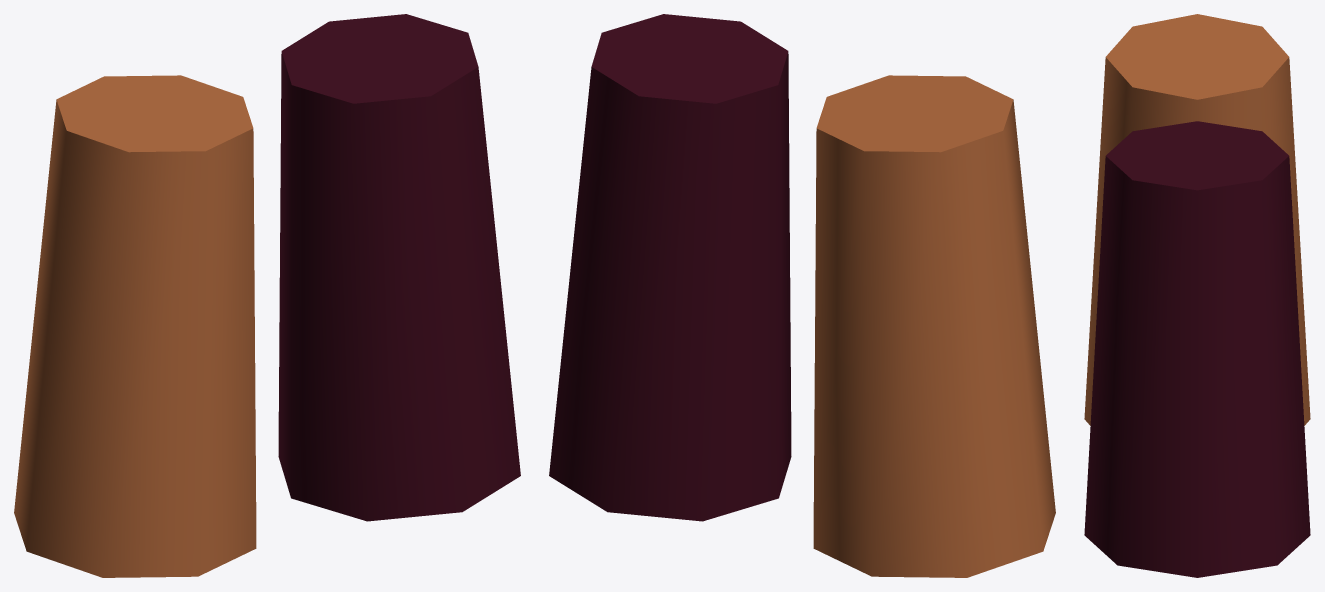
File: legs.glb
3 views of the same model, side by side, from view 1: azimuth 30°, elevation 25°; view 2: azimuth 150°, elevation 25°; view 3: azimuth 270°, elevation 25° (orthographic). The views are drawn at different scales.
Visible parts, largest first — view 1: greave_-1, greave_1; view 2: greave_-1, greave_1; view 3: greave_1, greave_-1.
Part boxes in pixels (bbox=[...]): greave_-1: bbox=[14, 75, 256, 577]; greave_1: bbox=[278, 14, 520, 521]; greave_-1: bbox=[813, 75, 1055, 577]; greave_1: bbox=[549, 14, 791, 521]; greave_1: bbox=[1084, 121, 1310, 577]; greave_-1: bbox=[1084, 14, 1310, 425].
Bounding box in the file's own units: 0.7086 × 0.5938 × 0.32.
